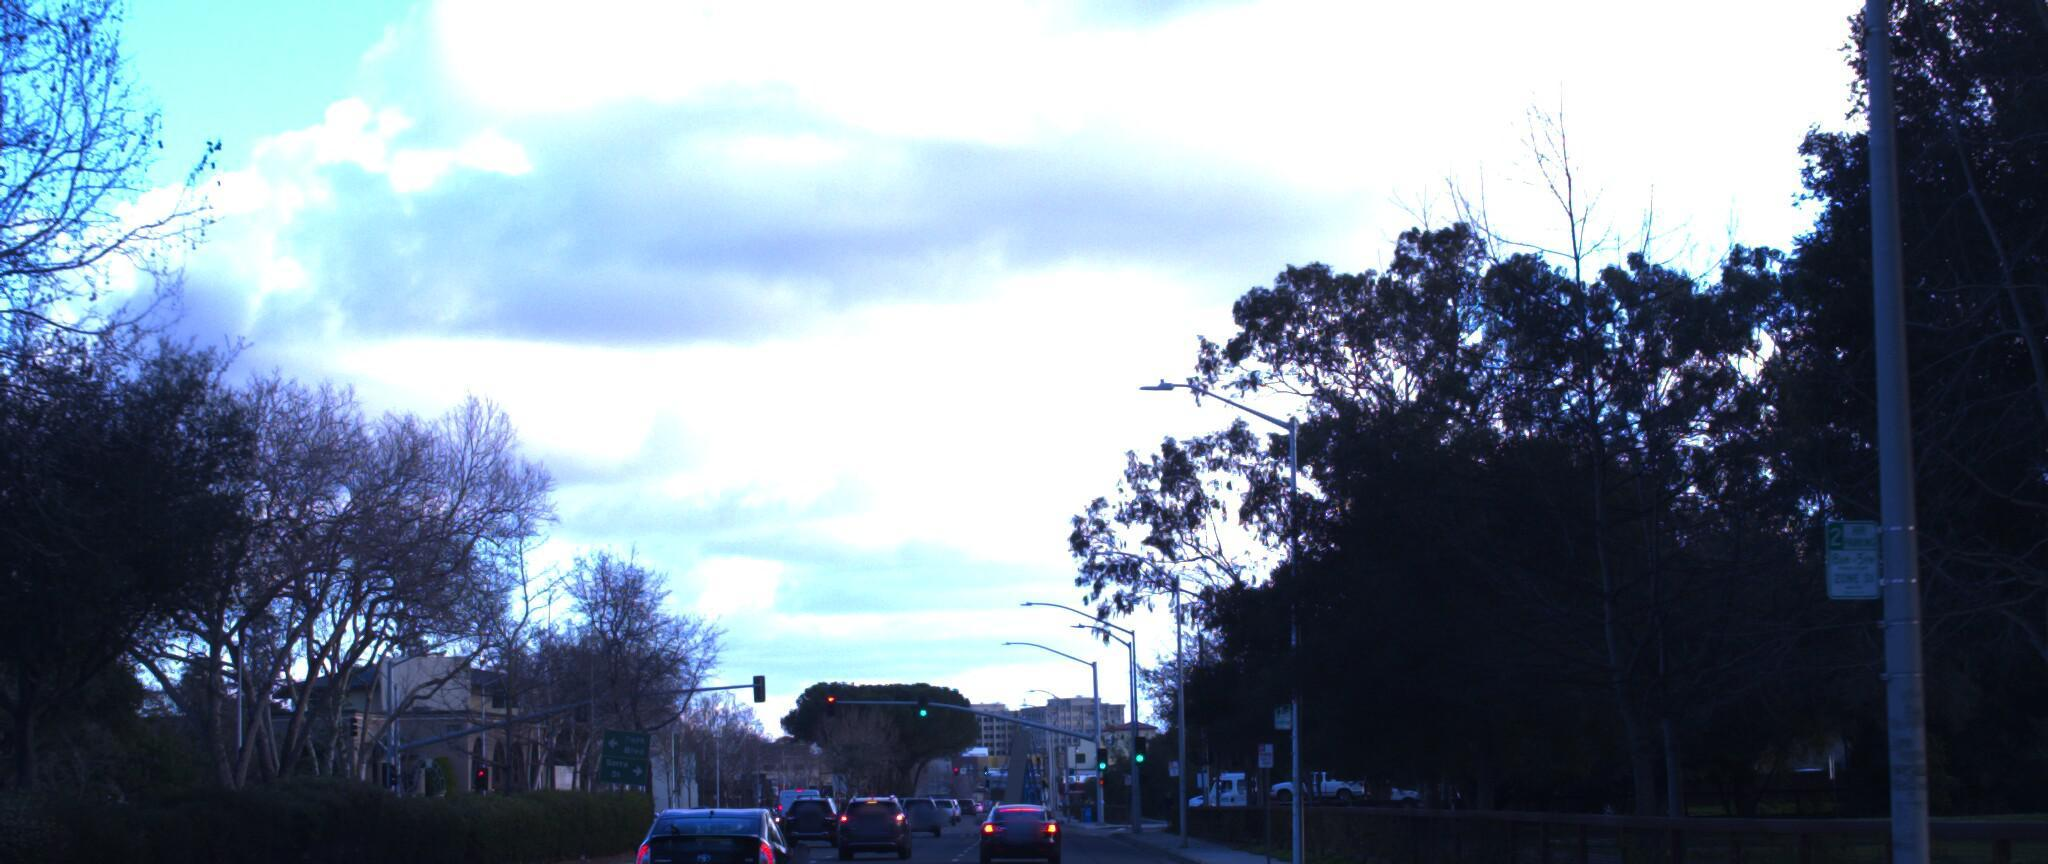car: (631, 775, 816, 864), (842, 771, 921, 837), (976, 780, 1055, 844)
